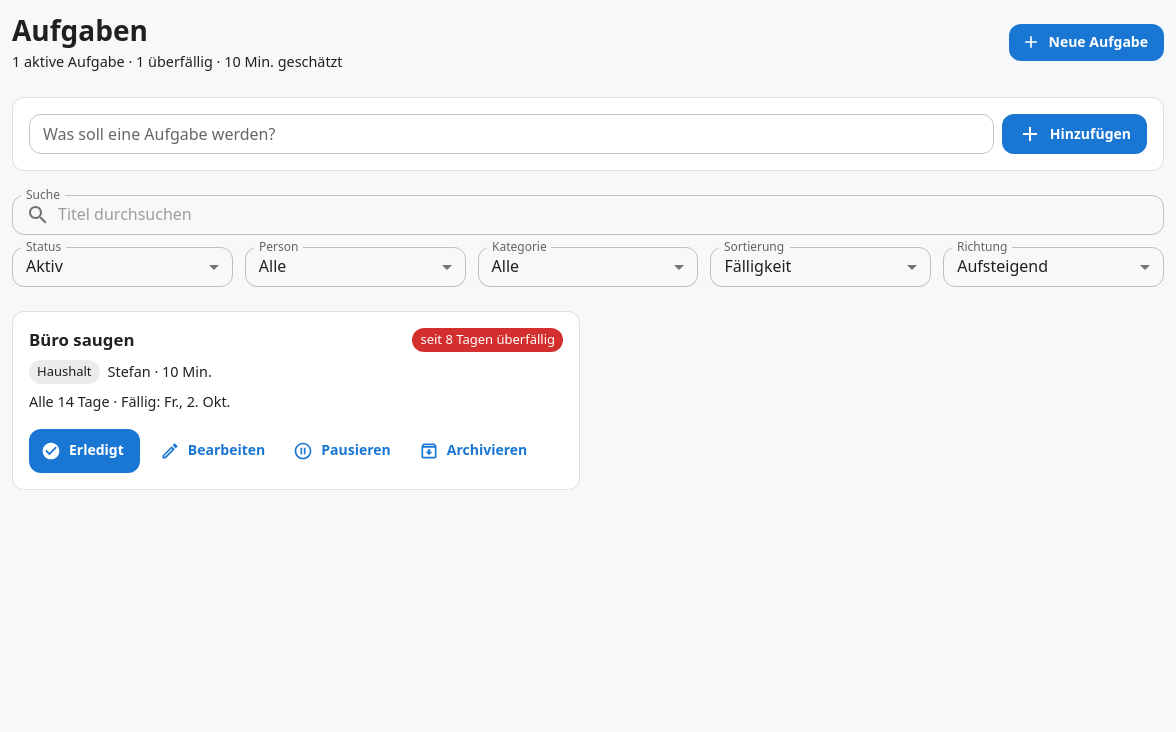
Test case: offline completion (MOBILE-004) › does not queue the same Tenner twice
The width and height of the screenshot is (1176, 732).
Click the button with aria-label "„Büro saugen“ erledigen" at (84, 451), box [29,429,140,473]
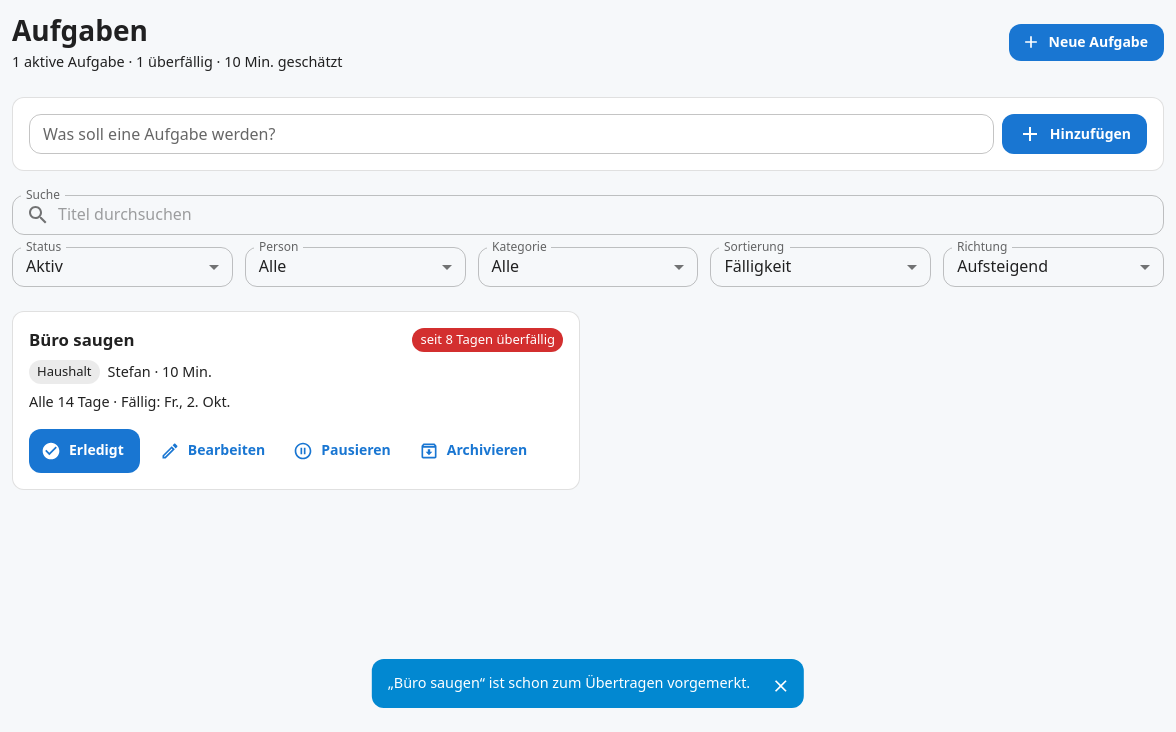
Result: the text "„Büro saugen“ ist schon zum Übertragen vorgemerkt." is shown at [388,673,750,692]
